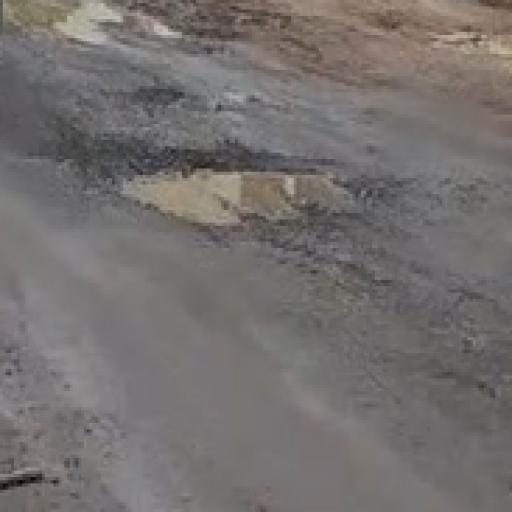pothole: (68, 100, 457, 298)
